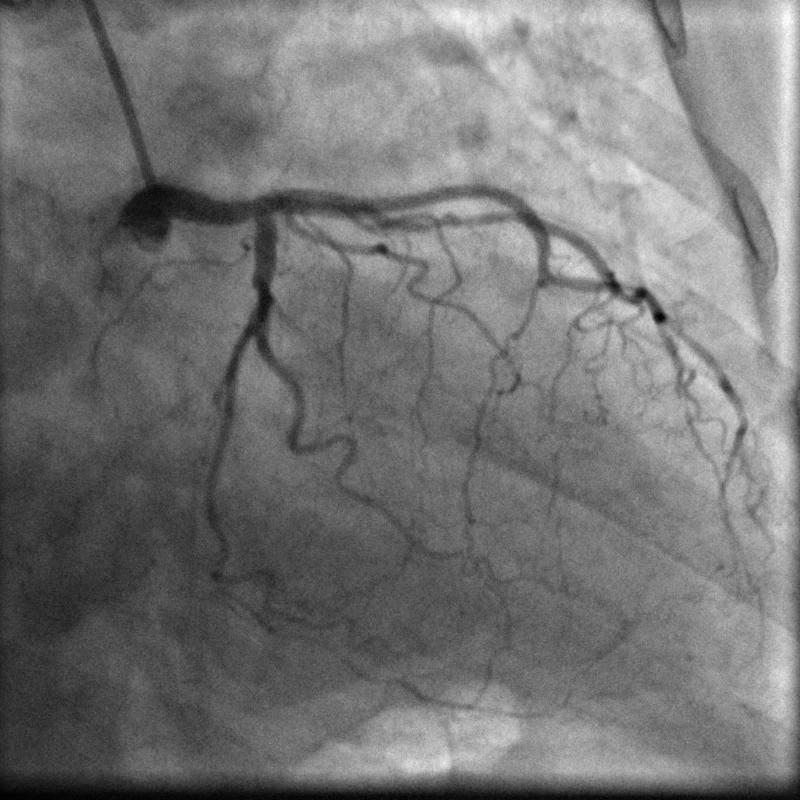Stenosis: (423, 209, 497, 231)
